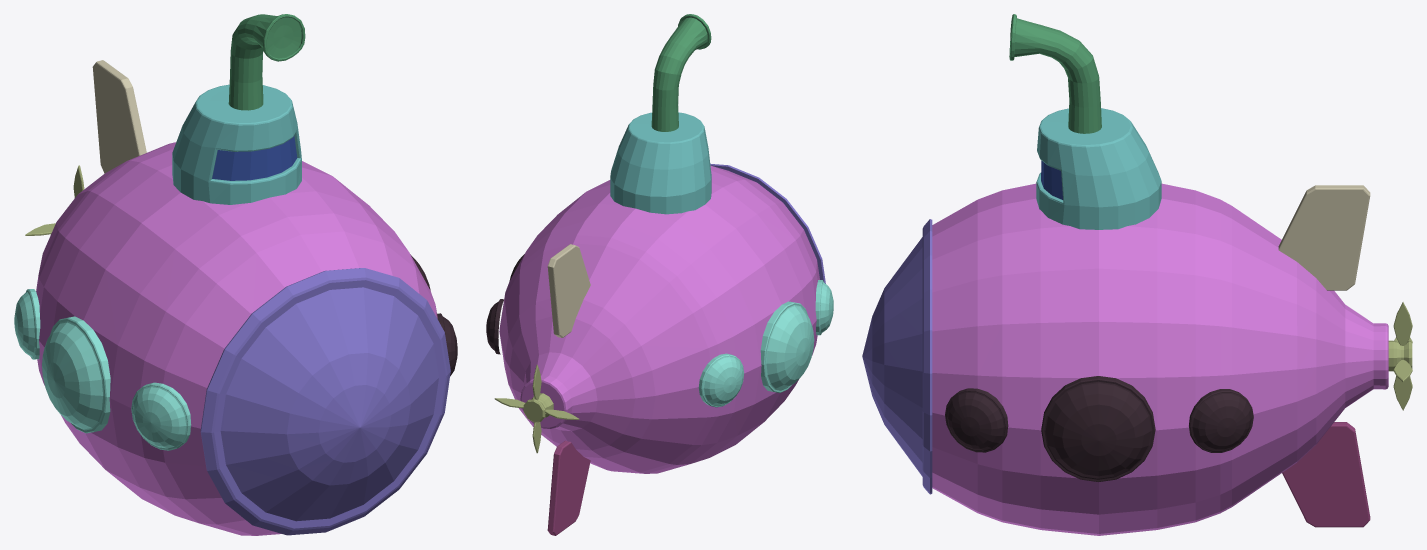
3 views of the same model, side by side, from view 1: azimuth 30°, elevation 25°; view 2: azimuth 150°, elevation 25°; view 3: azimuth 270°, elevation 25° (orthographic). The views are drawn at different scales.
Visible parts, largest first — view 1: world; view 2: world; view 3: world.
Part boxes in pixels (left/top/right/bottom): world: left=14, top=14, right=457, bottom=535; world: left=486, top=14, right=833, bottom=535; world: left=862, top=14, right=1412, bottom=535.
Bounding box in the file's own units: 0.7203 × 1 × 0.9759.
